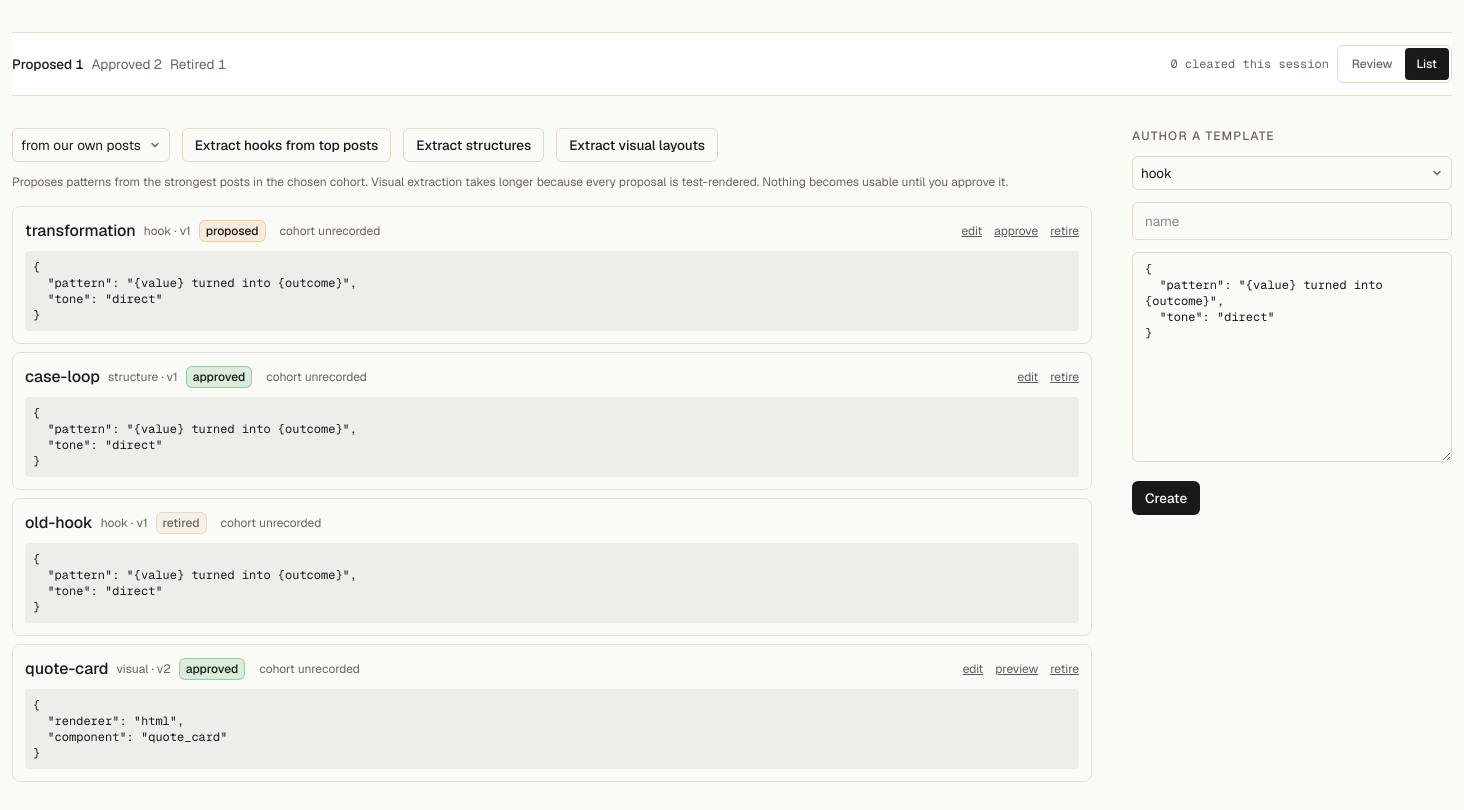
Scenario: the preview pane in the editor › offers a preview for a visual and not for a hook
Click the button "edit" in the row of "quote-card". click: (973, 669)
box: [963,661,983,677]
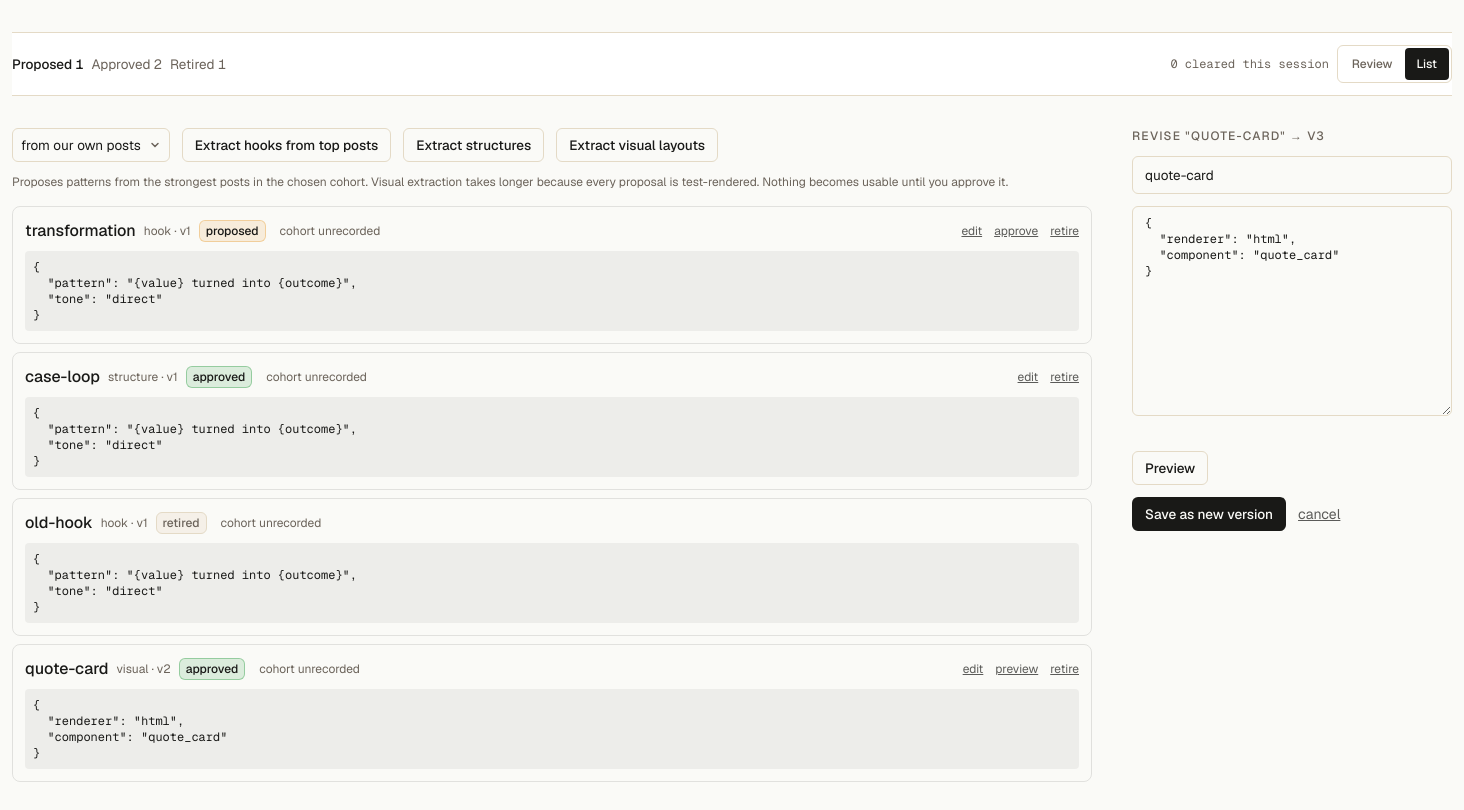
Now the button "Preview" is shown, box [1132,451,1208,485]
